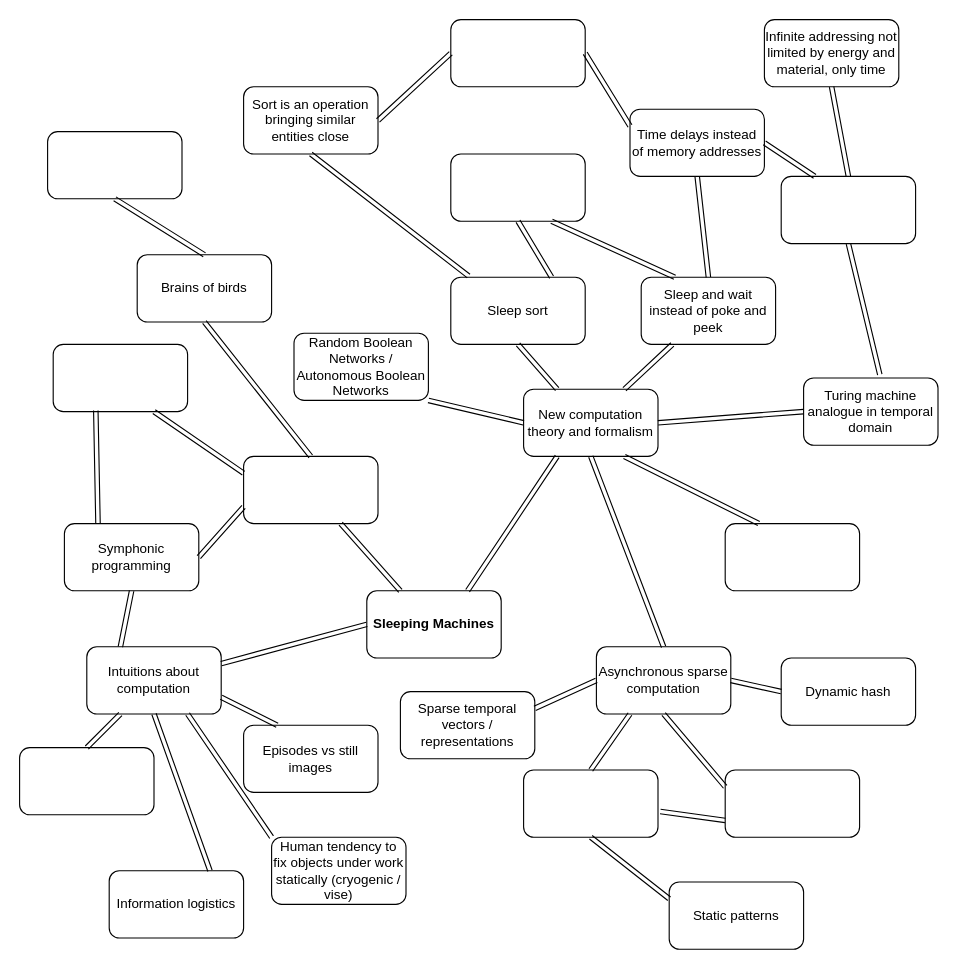
Image size: 958x969. Some labels were removed from this diagram. The shapes that lost their labels are listed below. From the top down, each one's centre as x and y in pixels, then its label:
At point 517,52: "Operational relationships in time, not in space".
At point 114,164: "Absolute tempo ear".
At point 517,187: "Sleep is a powerful operation, not a NOP".
At point 848,209: "Causal relative time references instead of tape addressing".
At point 120,377: "Tracker music with causal interaction between billions of tracks".
At point 310,489: "Analogue to Music".
At point 792,556: "Static spatial relations, dynamic temporal relations of data".
At point 86,780: "Time complexity might be a wrong intuition".
At point 590,803: "Reservoir computing".
At point 792,803: "Spiking neural networks (SNNs)".
